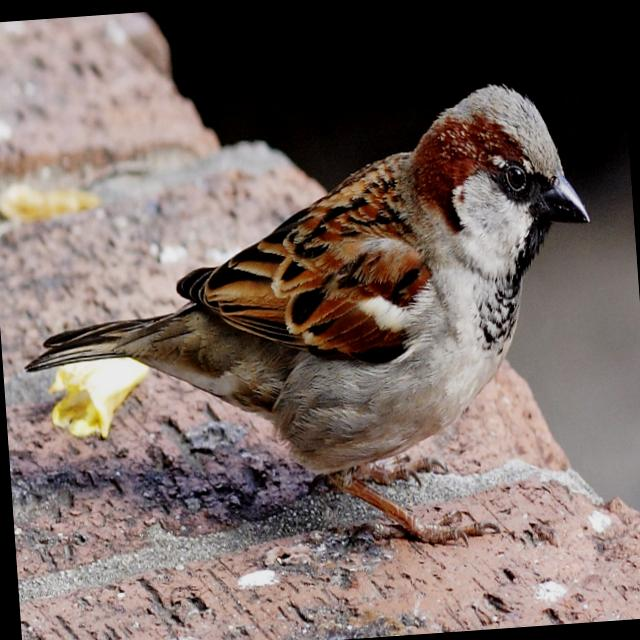bird: (5, 64, 616, 586)
